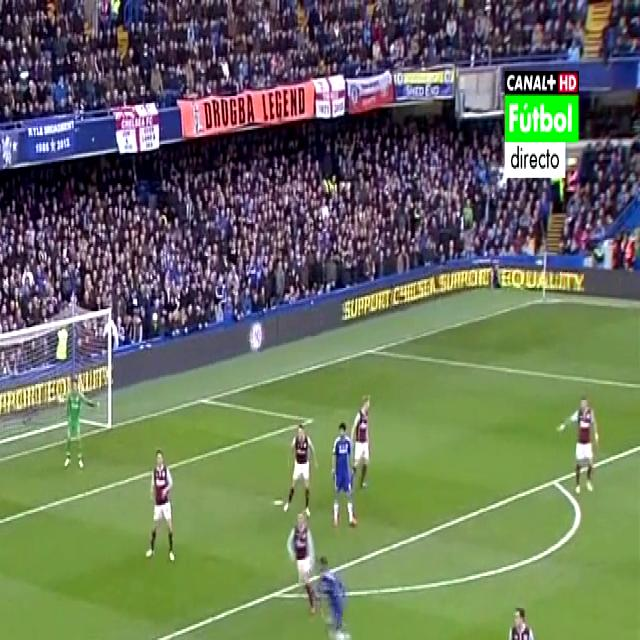goalkeeper: (60, 366, 103, 470)
soccer-player: (556, 381, 602, 500), (313, 547, 362, 640), (282, 504, 320, 620), (147, 438, 180, 565), (327, 409, 359, 529), (284, 415, 316, 521), (346, 379, 374, 498), (495, 597, 544, 640)
